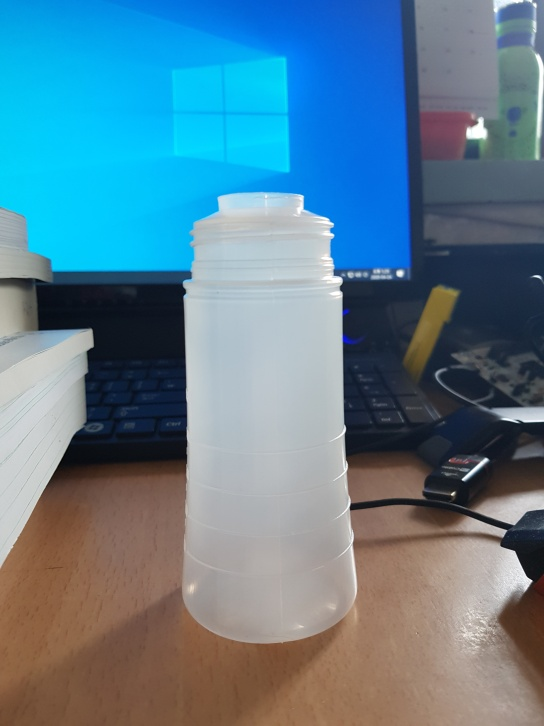Plastic: (181, 187, 363, 643)
